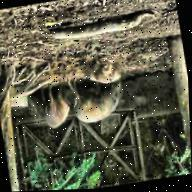boar: (69, 77, 131, 135), (31, 66, 79, 135), (88, 55, 124, 91)
